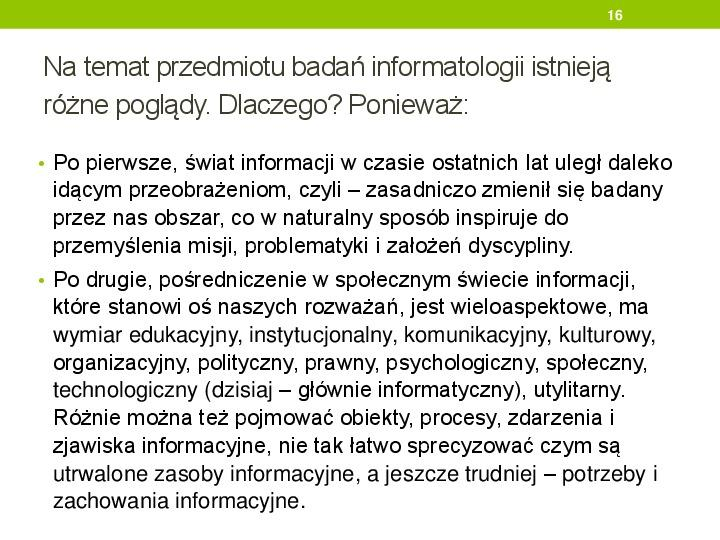paragraph: (34, 141, 684, 528)
title: (37, 46, 696, 126)
